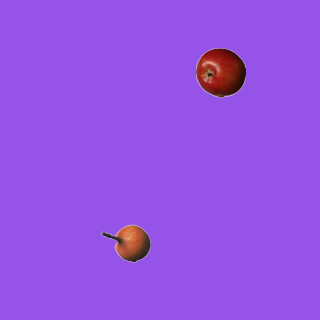Apple Braeburn: (195, 47, 245, 97)
Granadilla: (100, 218, 150, 268)
